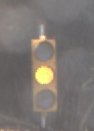Yellow: (26, 32, 58, 120)
